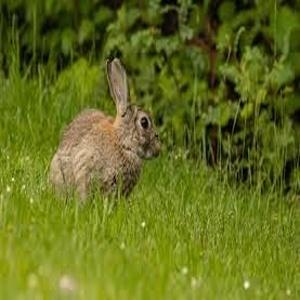rabbit: (49, 58, 160, 199)
